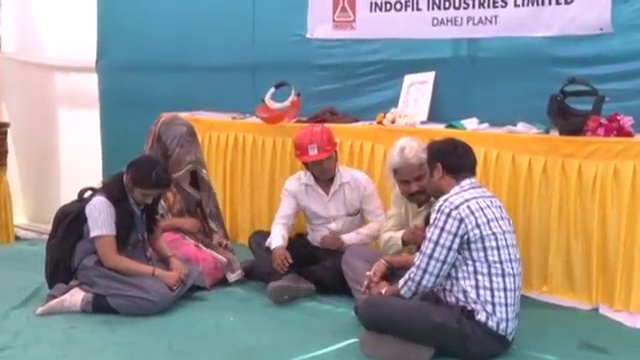helmet: (289, 127, 342, 167)
helmet_off: (145, 121, 204, 185), (422, 141, 480, 206), (112, 154, 176, 209), (386, 137, 433, 206)
helmet_on: (288, 122, 342, 190)
person: (344, 136, 525, 359), (35, 149, 198, 319), (242, 126, 384, 303), (145, 120, 237, 293), (346, 135, 435, 301)
